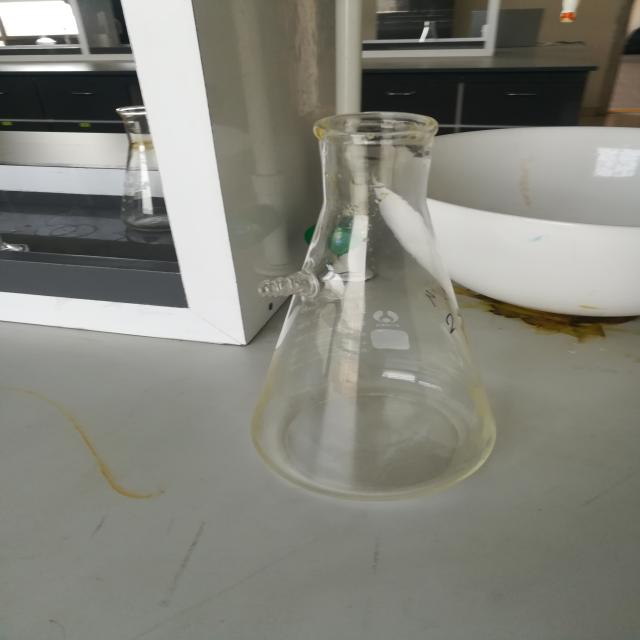Conical_Flask: (226, 63, 520, 526)
